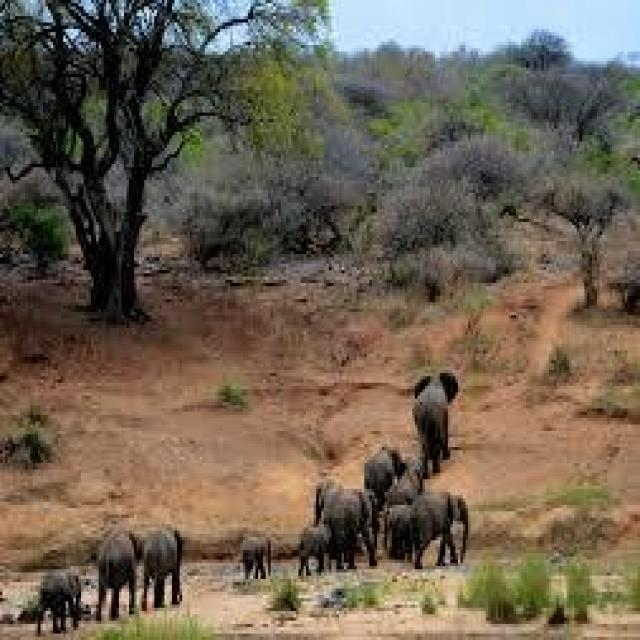Elephant: (405, 363, 473, 488), (397, 492, 473, 582), (137, 521, 193, 611), (23, 566, 93, 635)
